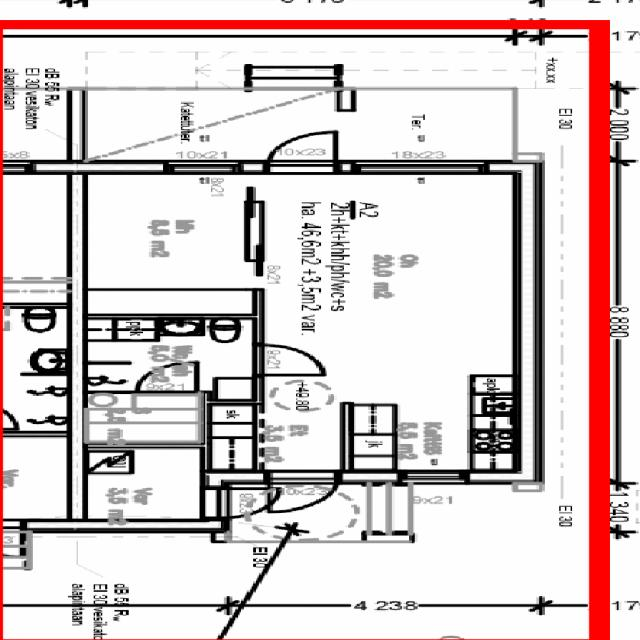door: (268, 126, 336, 174), (269, 470, 335, 518), (199, 488, 287, 517), (251, 344, 326, 376), (135, 359, 198, 394)
